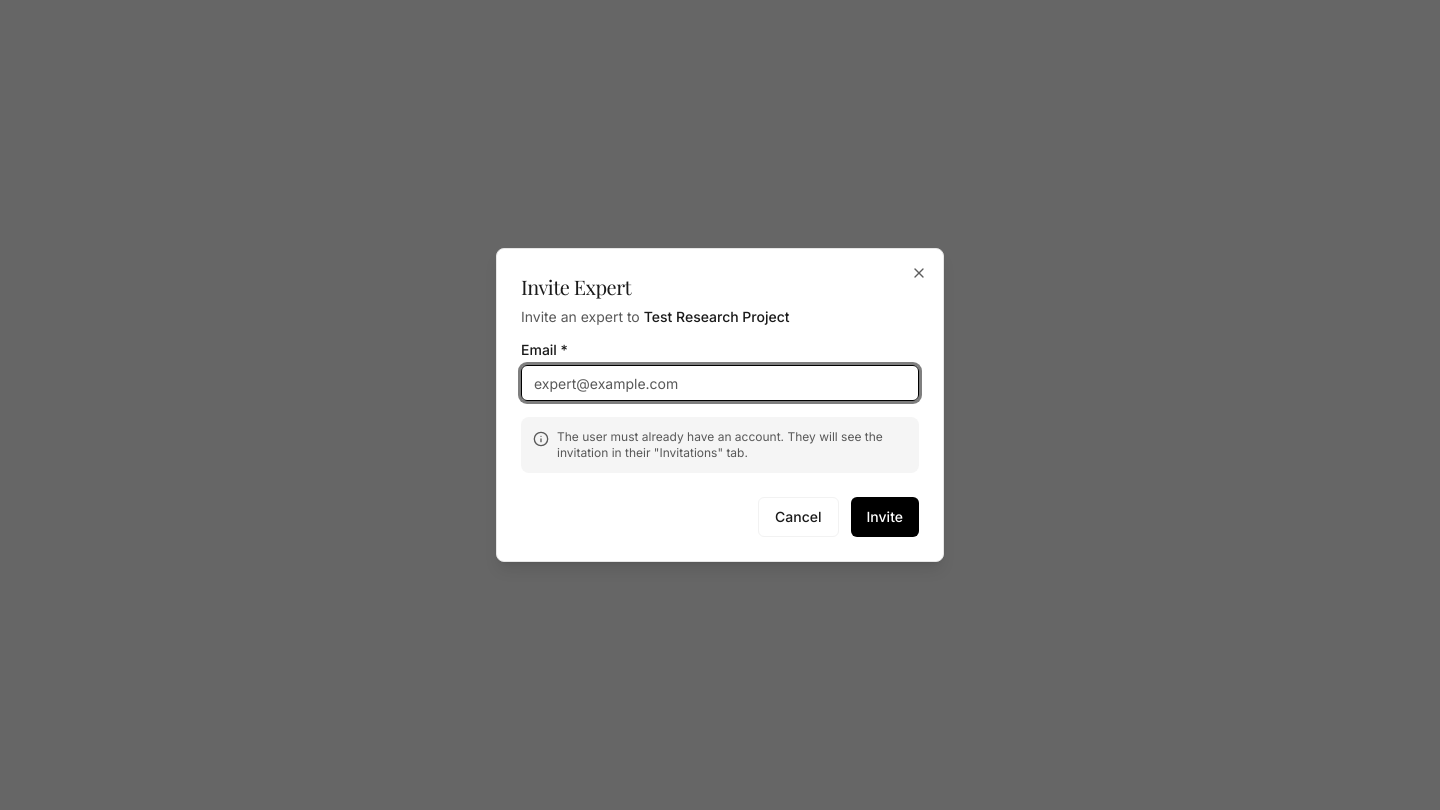
Scenario: InviteExpertModal › asks for the email when the form is submitted with it empty
Click the button "Invite" at (885, 517), box [850, 497, 919, 537]
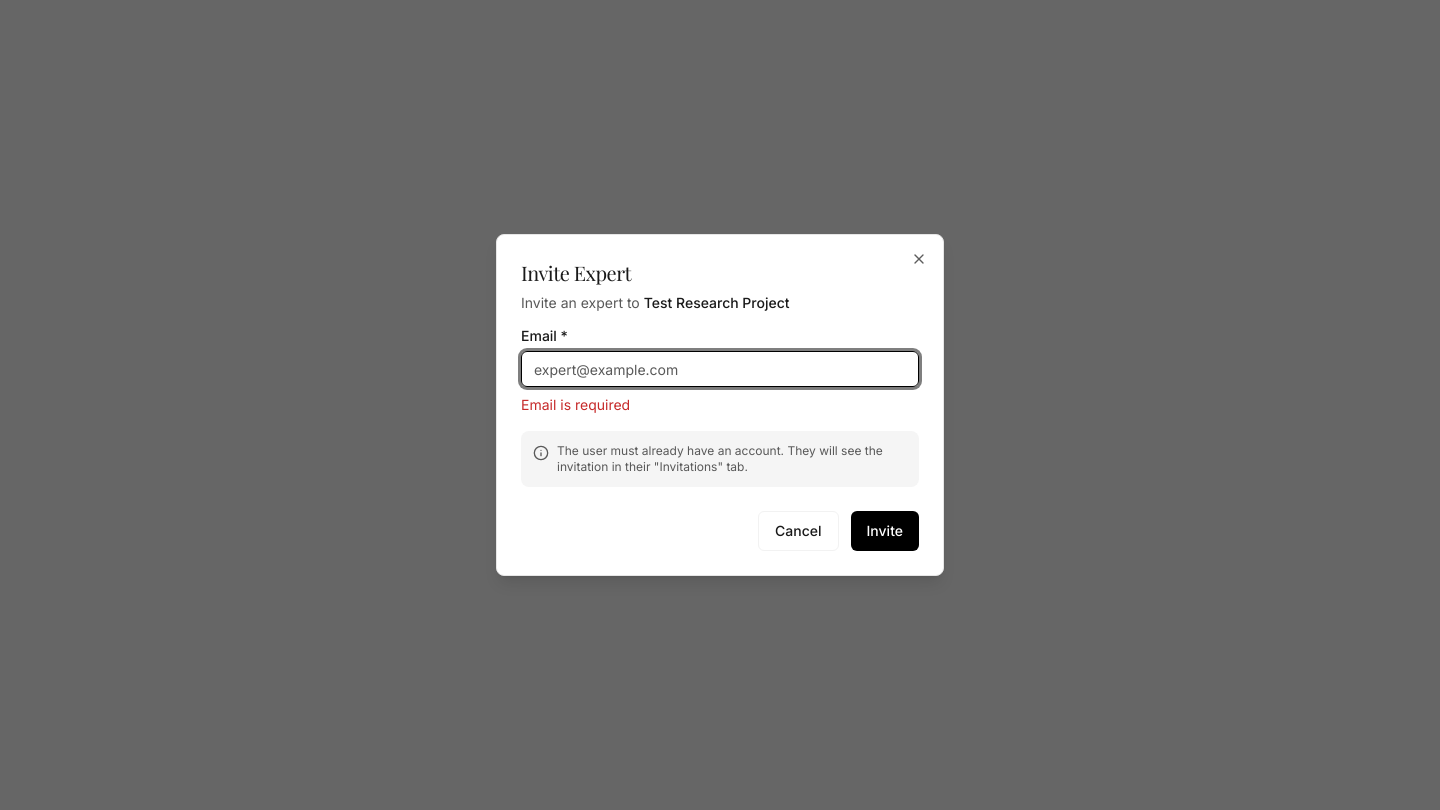
Now the text "Email is required" is shown, box [521, 396, 630, 413]
